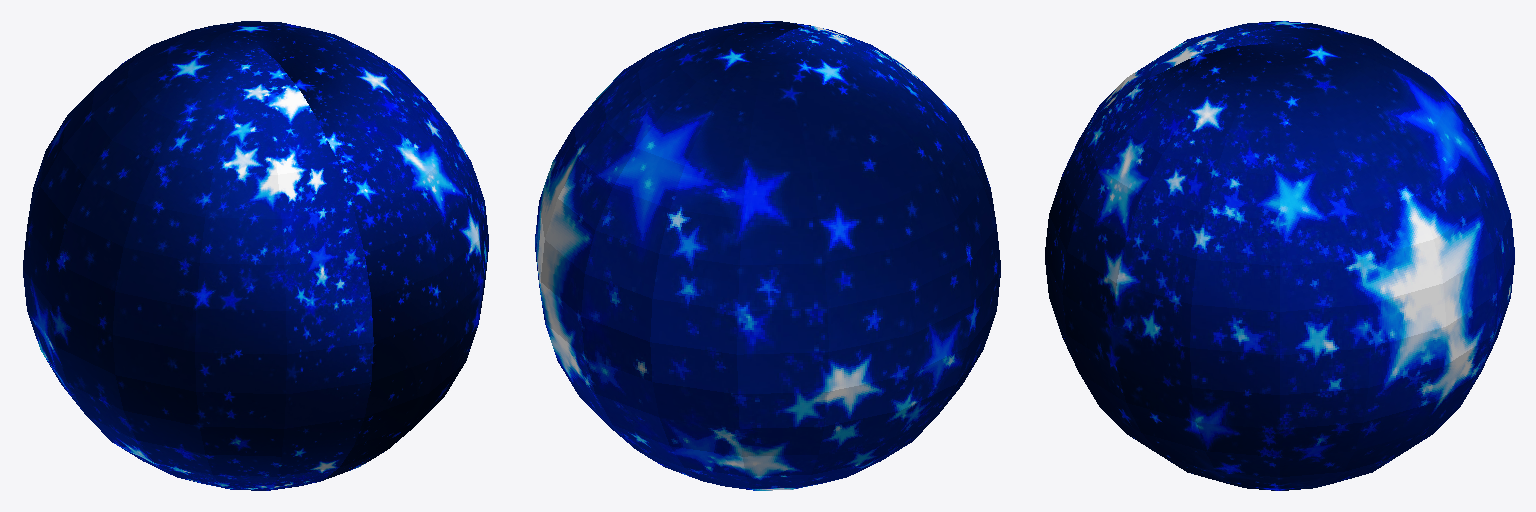
The picture shows the model from 3 angles: view 1: azimuth 30°, elevation 25°; view 2: azimuth 150°, elevation 25°; view 3: azimuth 270°, elevation 25°; orthographic projection.
Visible parts, largest first — view 1: sphere1; view 2: sphere1; view 3: sphere1.
Part boxes in pixels (bbox=[...]): sphere1: bbox=[23, 21, 488, 490]; sphere1: bbox=[535, 21, 1000, 490]; sphere1: bbox=[1045, 21, 1514, 490].
Bounding box in the file's own units: 2 × 2 × 2.
1 materials, 1 textured.